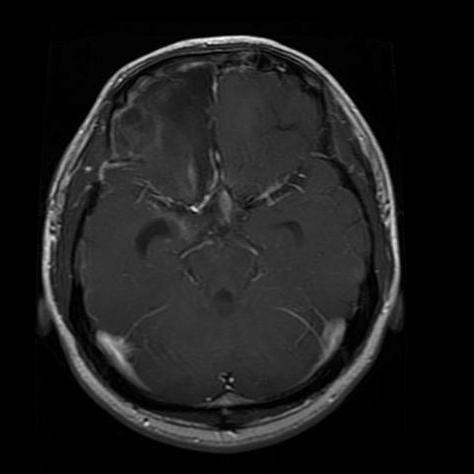Tumour-Glioma: (130, 81, 203, 198)
